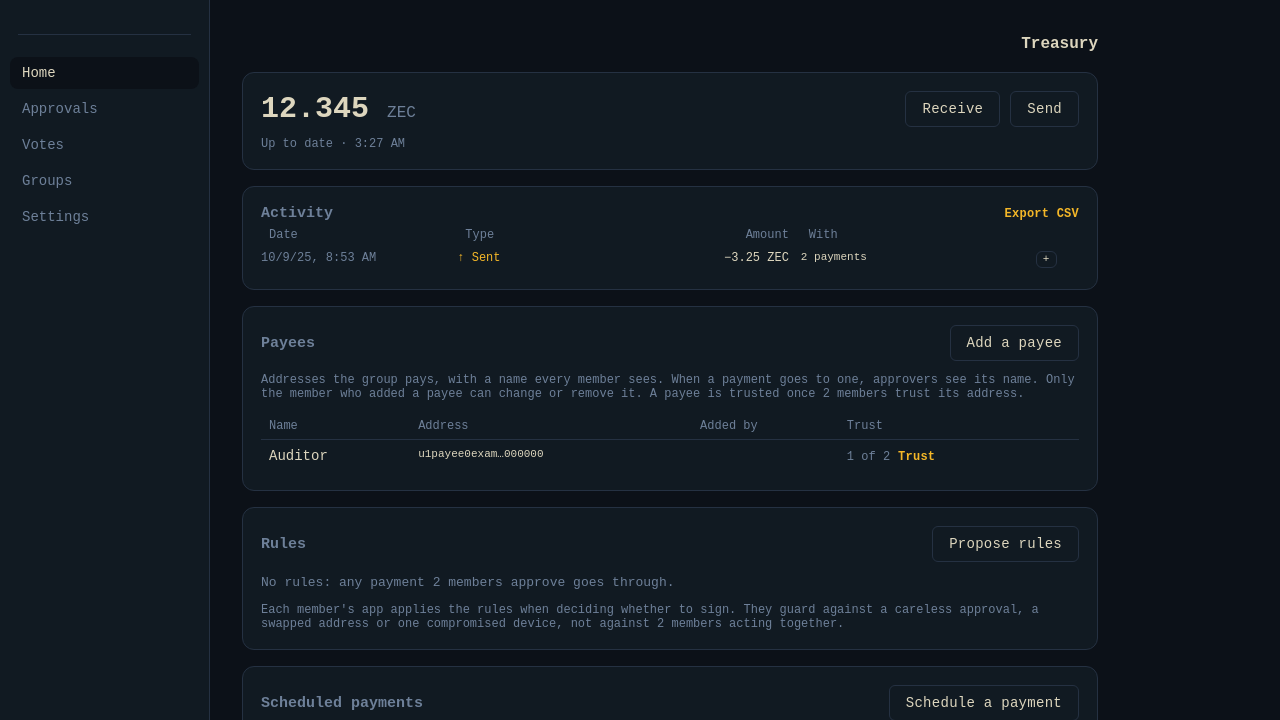
Test: history shows a batch as its payments, named where they're payees
Step 1. Click the text "2 payments" → (834, 257), box top-left (801, 248), bottom-right (1014, 271)
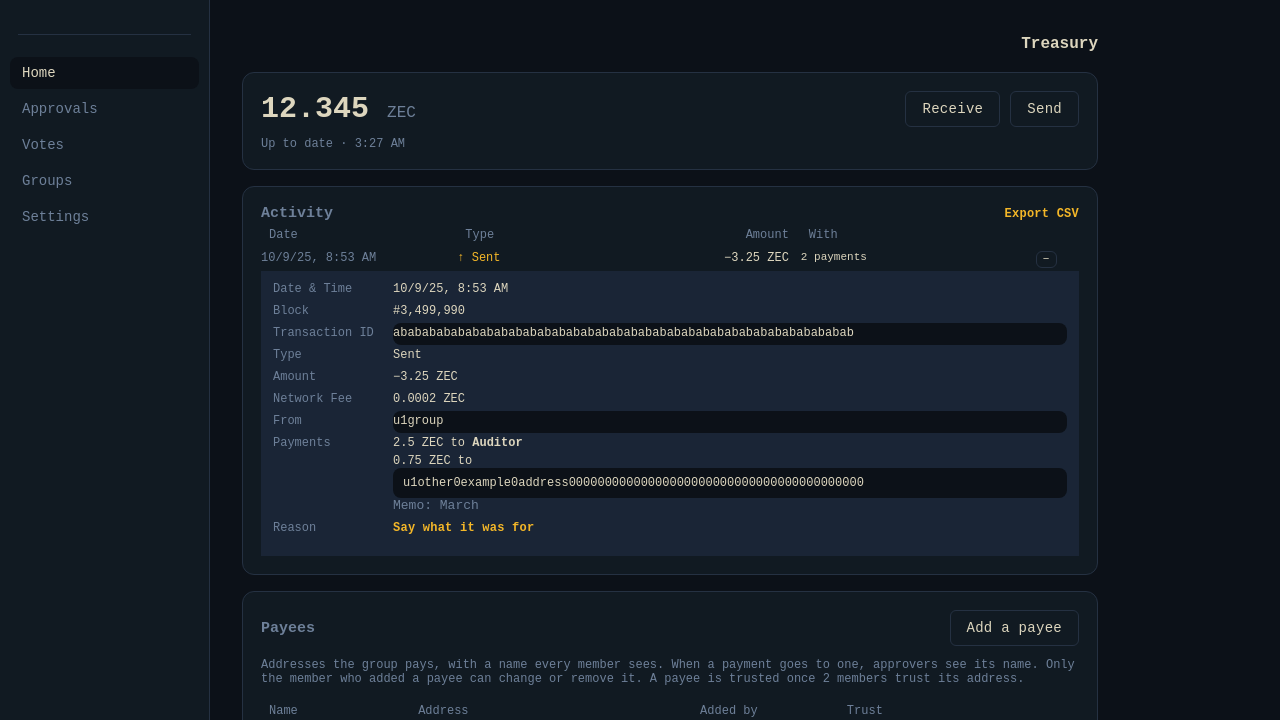
Expected: the text "Auditor" is shown, top-left (472, 436), bottom-right (523, 450)
Expected: the text "u1other0example0address00000000000000000000000000000000000000000" is shown, top-left (393, 468), bottom-right (1067, 498)
Expected: the text "Memo: March" is shown, top-left (393, 498), bottom-right (479, 513)
